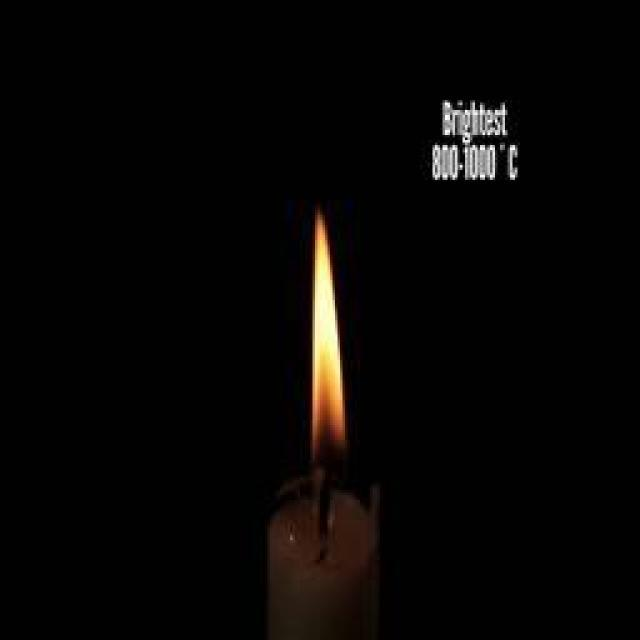Fire: (308, 212, 348, 440)
